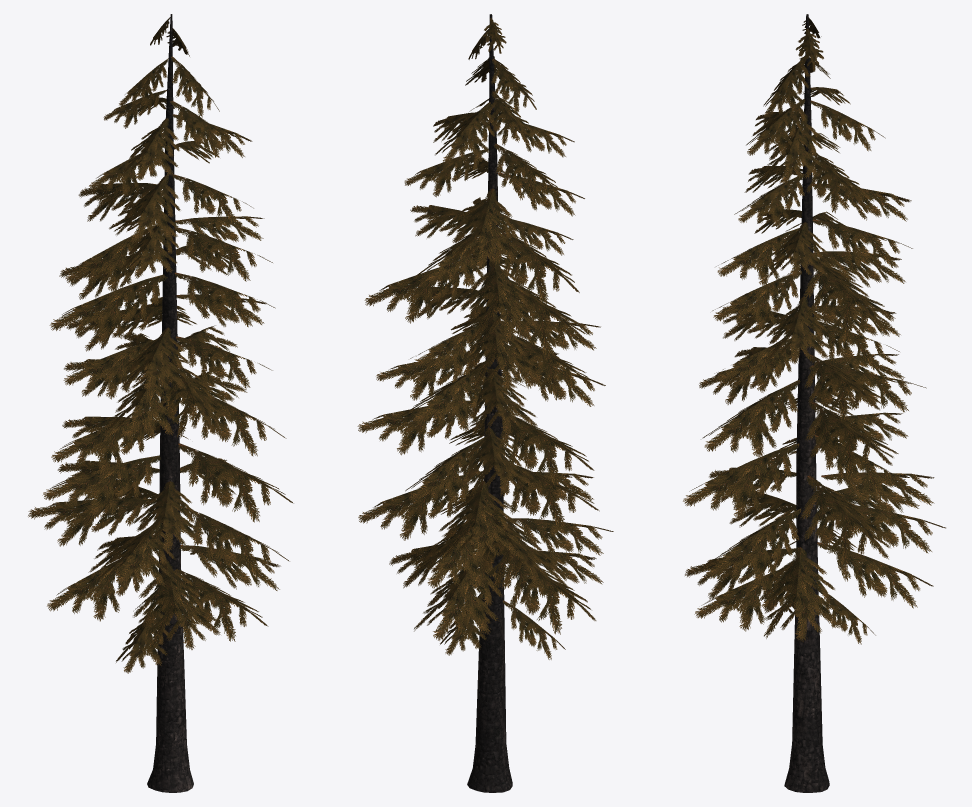
File: pine_tree_n_1_1.glb
3 views of the same model, side by side, from view 1: azimuth 30°, elevation 25°; view 2: azimuth 150°, elevation 25°; view 3: azimuth 270°, elevation 25° (orthographic).
Parts seen in each view (by area): view 1: pine_tree_n_1_1_branches, pine_tree_n_1_1; view 2: pine_tree_n_1_1_branches, pine_tree_n_1_1; view 3: pine_tree_n_1_1_branches, pine_tree_n_1_1.
Part boxes in pixels (left/top/right/bottom): pine_tree_n_1_1_branches: left=28, top=17, right=293, bottom=673; pine_tree_n_1_1: left=147, top=14, right=193, bottom=792; pine_tree_n_1_1_branches: left=357, top=18, right=613, bottom=659; pine_tree_n_1_1: left=467, top=14, right=512, bottom=792; pine_tree_n_1_1_branches: left=683, top=17, right=945, bottom=644; pine_tree_n_1_1: left=784, top=14, right=829, bottom=792.
Size of the model in its own units: 3.06 by 9.1 by 3.21.
Materials: 2 (2 with a texture image).
